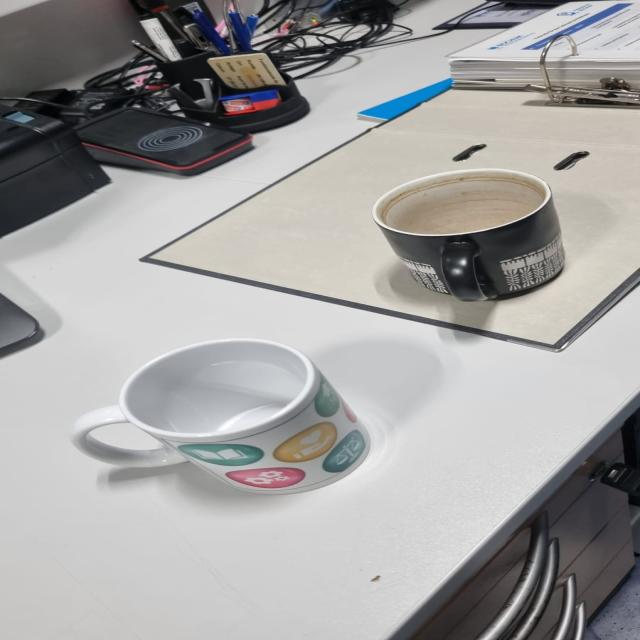Cup: (73, 339, 373, 494), (373, 169, 565, 301), (0, 91, 70, 120)
